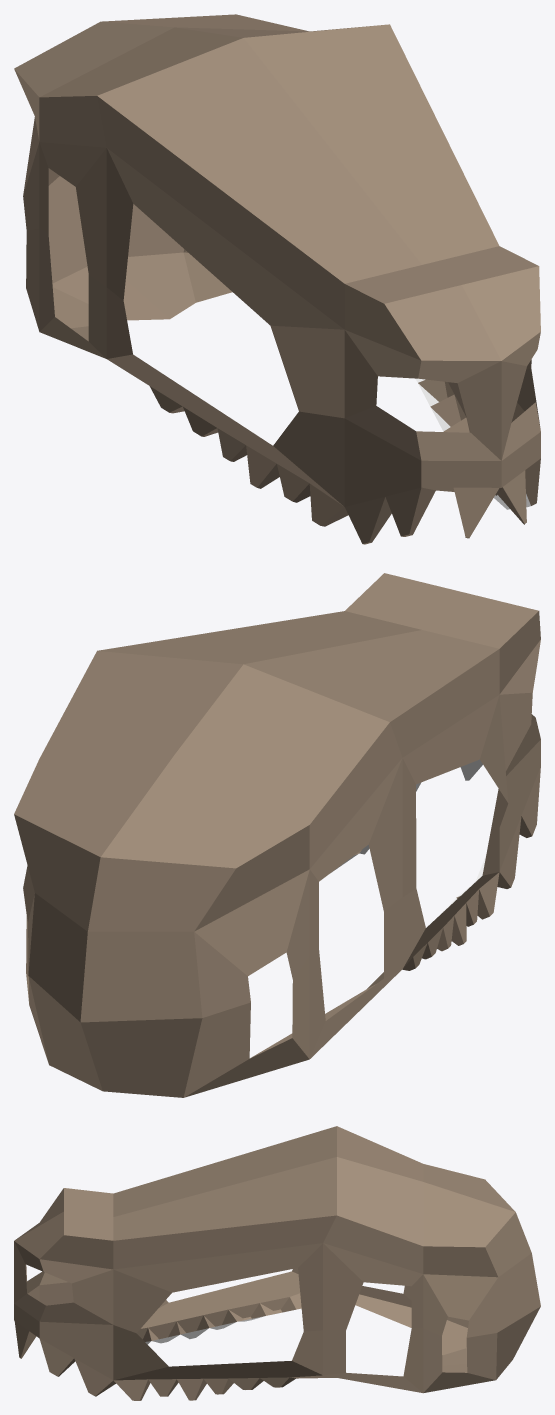
File: DinoSkull.fbx
The picture shows the model from 3 angles, top to bottom: view 1: azimuth 30°, elevation 25°; view 2: azimuth 150°, elevation 25°; view 3: azimuth 270°, elevation 25°; orthographic projection. The views are drawn at different scales.
Visible parts, largest first — view 1: DinoSkull; view 2: DinoSkull; view 3: DinoSkull.
Part boxes in pixels (x1,y1,x2,y2): DinoSkull: (14, 14, 540, 544); DinoSkull: (14, 573, 540, 1097); DinoSkull: (14, 1126, 540, 1400).
Bounding box in the file's own units: 101 × 114 × 249.
